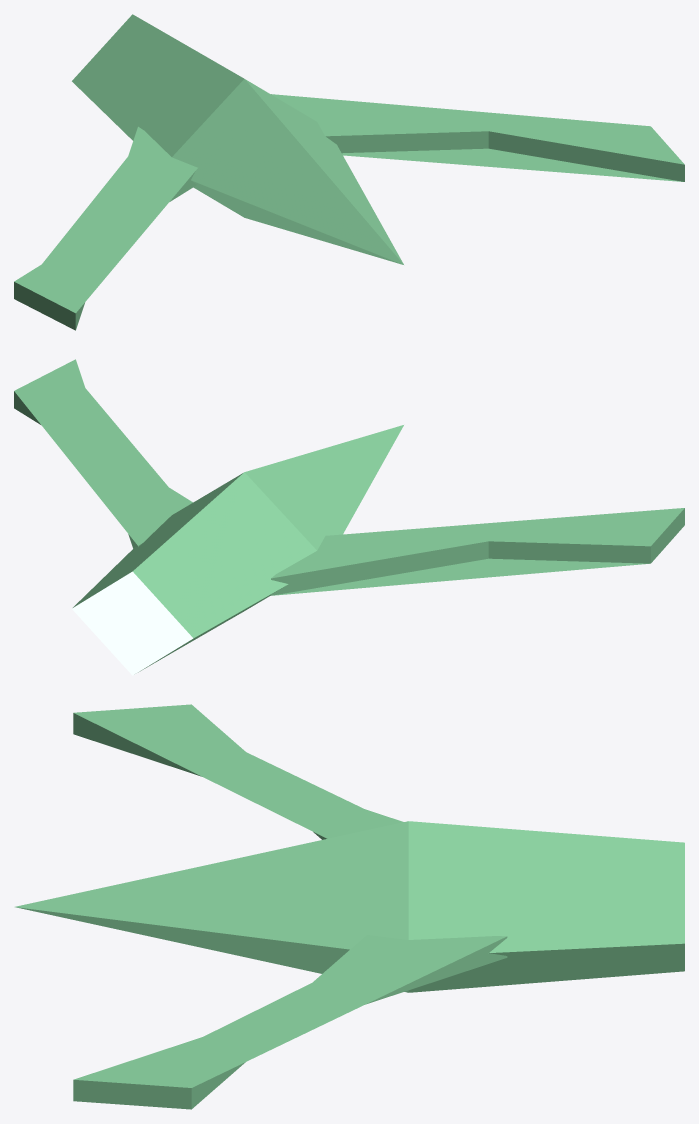
The model's file is enemy_weaver.glb.
The picture shows the model from 3 angles, top to bottom: view 1: azimuth 30°, elevation 25°; view 2: azimuth 150°, elevation 25°; view 3: azimuth 270°, elevation 25°; orthographic projection. The views are drawn at different scales.
Parts seen in each view (by area): view 1: Enemy_Weaver; view 2: Enemy_Weaver; view 3: Enemy_Weaver.
Part boxes in pixels (x1,y1,x2,y2): Enemy_Weaver: [14, 14, 684, 330]; Enemy_Weaver: [14, 359, 684, 675]; Enemy_Weaver: [15, 704, 684, 1109].
Bounding box in the file's own units: 2.3 × 0.48 × 1.7.
